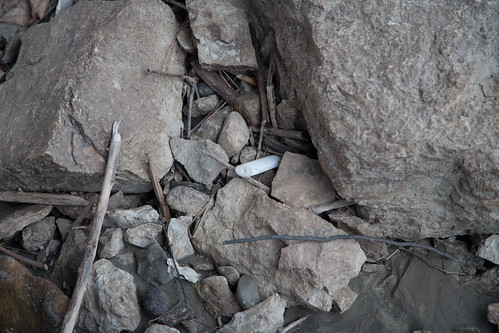rocks: (1, 1, 499, 333)
